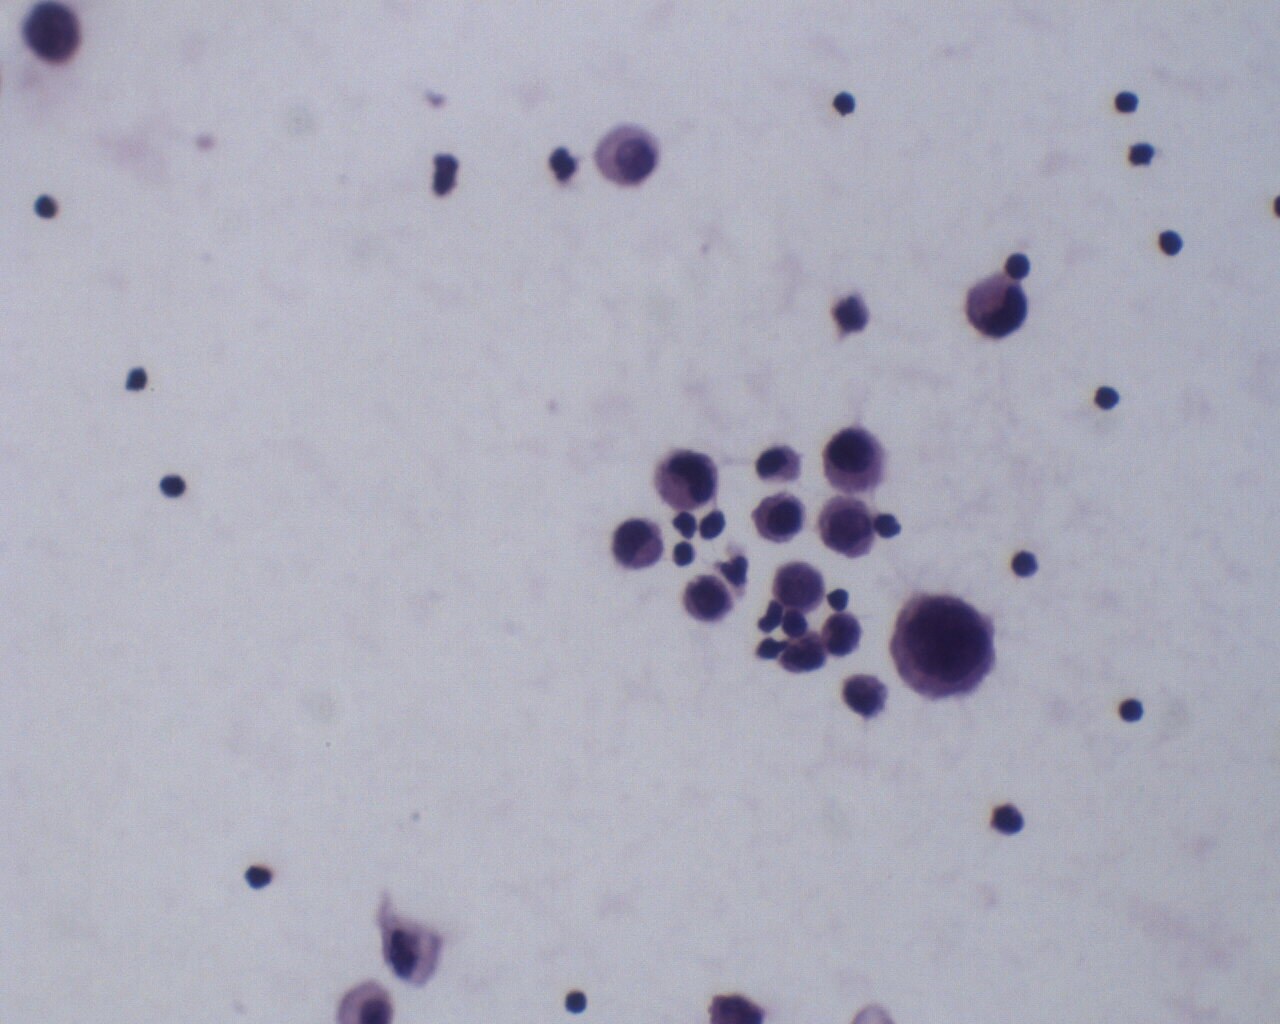ab: (889, 588, 998, 707), (651, 442, 723, 516), (953, 271, 1030, 339), (818, 495, 878, 563), (613, 513, 668, 573), (775, 557, 827, 612), (683, 571, 734, 627), (841, 672, 891, 722), (777, 631, 827, 678)
lymph: (1111, 688, 1151, 734), (988, 799, 1027, 838), (153, 468, 190, 505), (1154, 225, 1190, 262), (1010, 546, 1047, 582), (1112, 83, 1142, 120), (1092, 382, 1125, 415)
meso: (818, 422, 891, 491), (591, 119, 665, 187), (752, 487, 811, 546)
